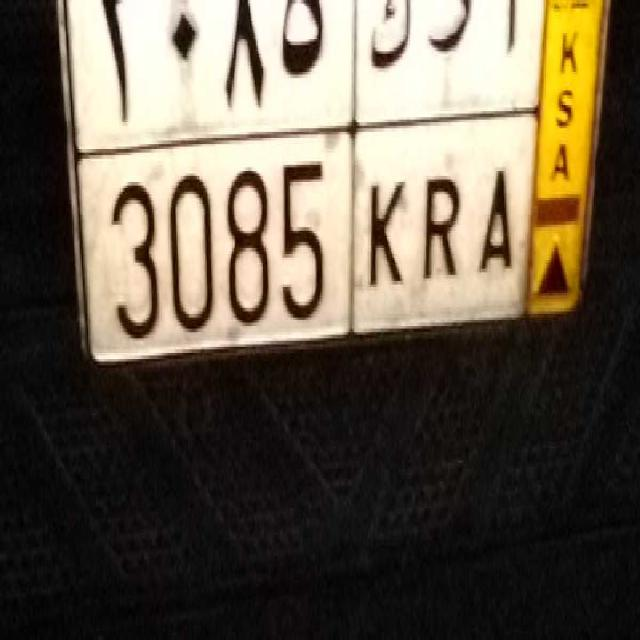license_plate: (97, 138, 527, 358)
